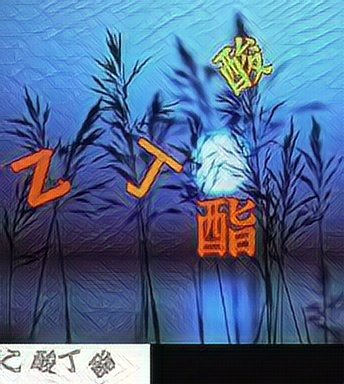B6A1: (120, 134, 184, 200)
CBE1: (211, 31, 275, 97)
D2D2: (10, 143, 74, 209)
F5A5: (193, 195, 257, 261)
